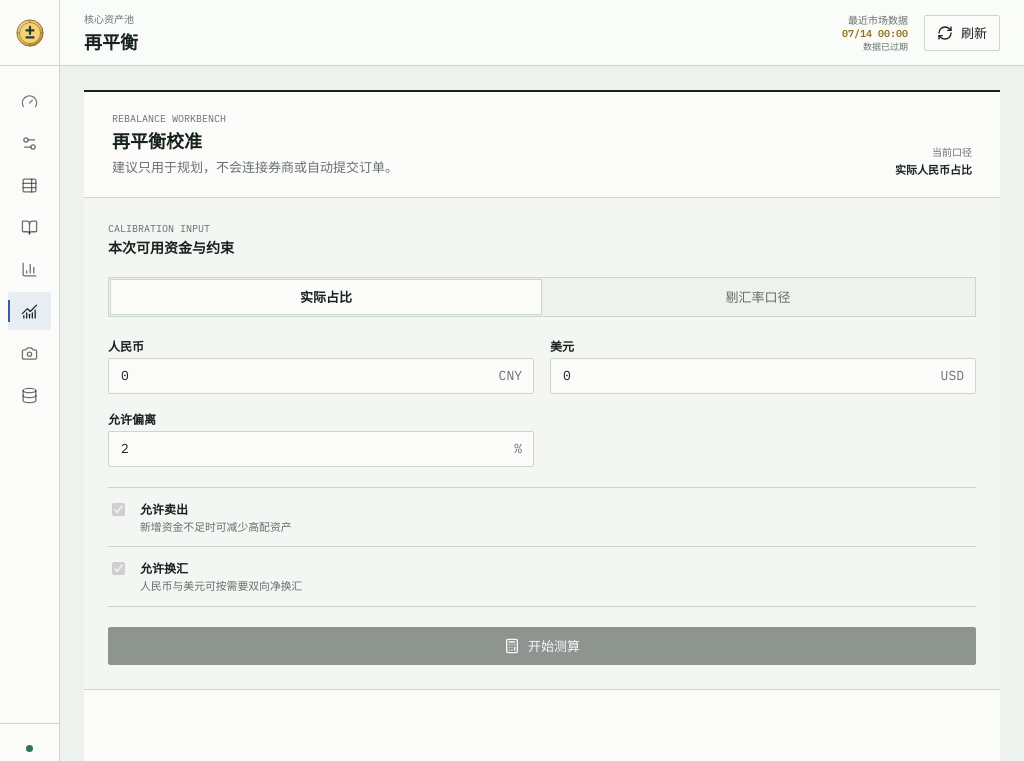
Test case: AppShell › waits for delayed plan restoration even when market refresh finishes first
This screenshot has width=1024, height=761.
Expected: the button "开始测算" is disabled, [108,627,976,665]
Click the button "刷新": (962, 32) [924,14,1000,50]
(page scrolled)
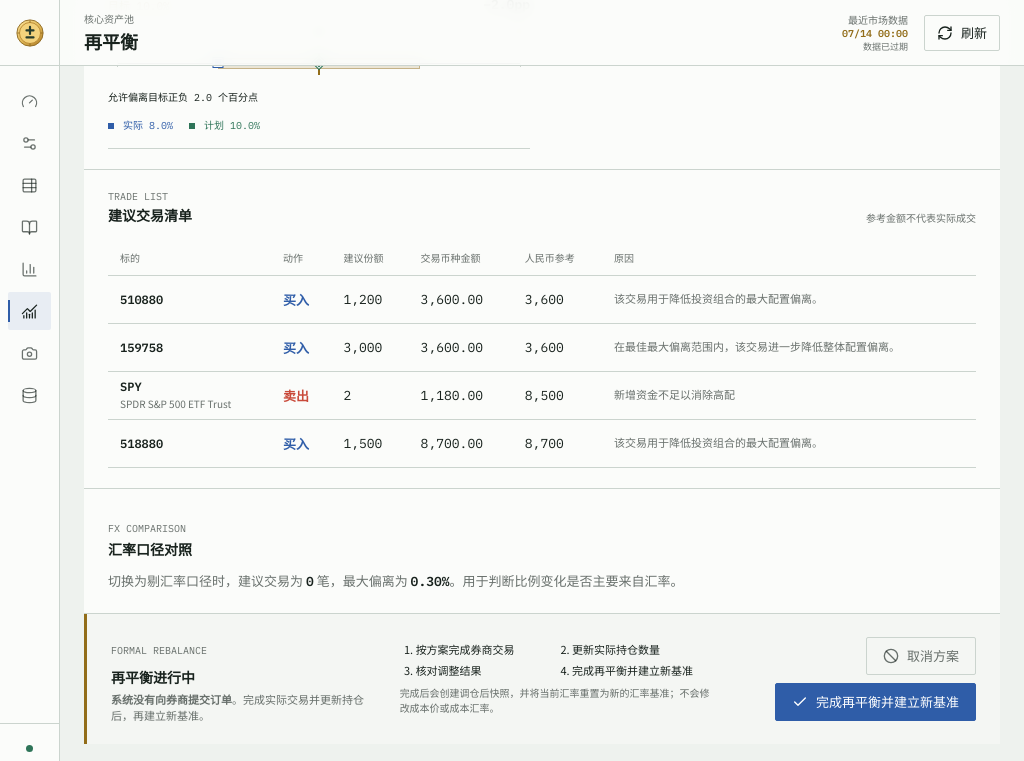
Result: the heading "再平衡进行中" is shown at [111,666,195,686]
Result: the button "完成再平衡并建立新基准" is enabled at [775,682,976,720]
